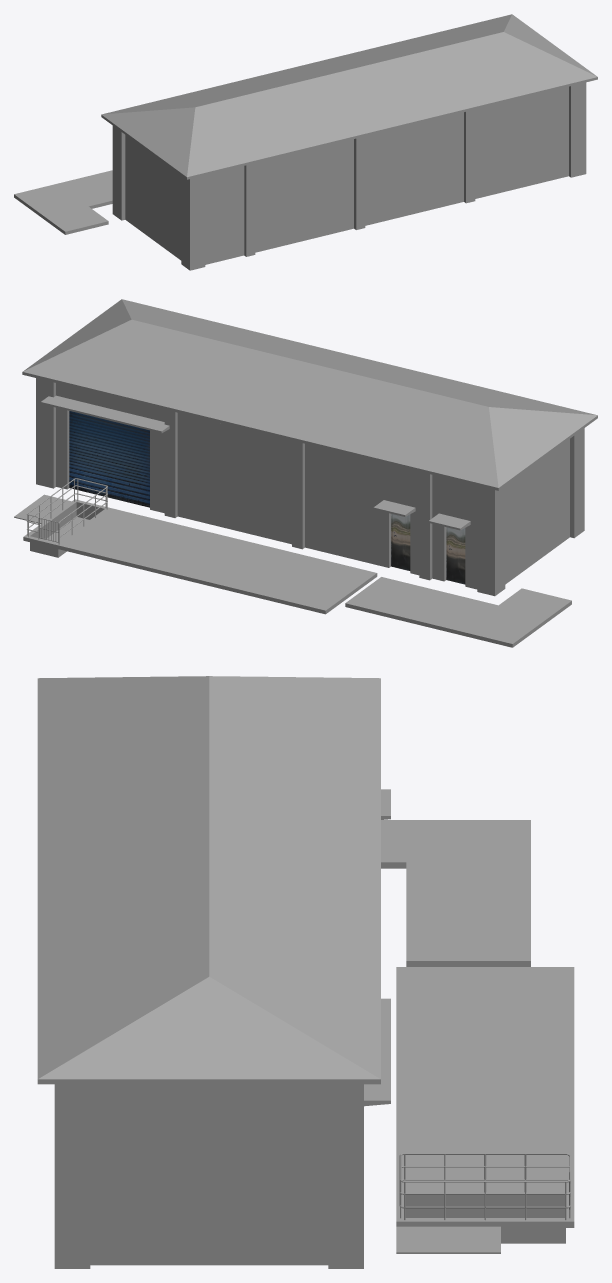
File: JiaYaoJian.fbx
The picture shows the model from 3 angles, top to bottom: view 1: azimuth 30°, elevation 25°; view 2: azimuth 150°, elevation 25°; view 3: azimuth 270°, elevation 25°; orthographic projection. The views are drawn at different scales.
Visible parts, largest first — view 1: ChuShuiJianCeFang, JiaYaoJian1; view 2: ChuShuiJianCeFang, JiaYaoJian1, Chuang3; view 3: ChuShuiJianCeFang, JiaYaoJian1, Chuang1, Chuang2.
Part boxes in pixels (box(x1,y1,x2,y2)): ChuShuiJianCeFang: box(14, 64, 392, 270); JiaYaoJian1: box(307, 14, 597, 220); ChuShuiJianCeFang: box(14, 357, 597, 647); JiaYaoJian1: box(22, 299, 359, 538); Chuang3: box(213, 447, 254, 500); ChuShuiJianCeFang: box(37, 676, 574, 1253); JiaYaoJian1: box(37, 826, 390, 1268); Chuang1: box(109, 1131, 191, 1205); Chuang2: box(229, 1131, 311, 1205).
Bounding box in the file's own units: 2280 × 634 × 1150.
8 materials, 1 textured.
